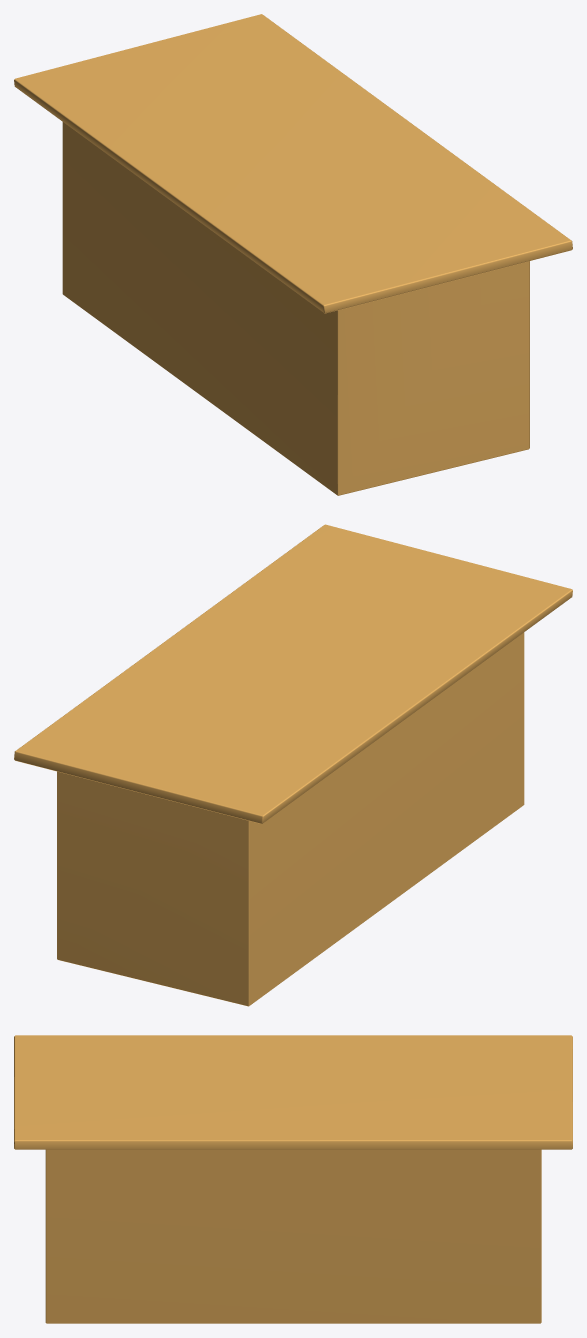
Rendered from kutusuzmasa.fbx.
3 renders of one model, top to bottom at view 1: azimuth 30°, elevation 25°; view 2: azimuth 150°, elevation 25°; view 3: azimuth 270°, elevation 25°, orthographic. The views are drawn at different scales.
Visible parts, largest first — view 1: Table_1_lp.002, Table_2_lp; view 2: Table_1_lp.002, Table_2_lp; view 3: Table_1_lp.002, Table_2_lp.
Boxes of the visible parts, x1=… form: Table_1_lp.002: x1=62, y1=122, x2=529, y2=495; Table_2_lp: x1=14, y1=14, x2=572, y2=313; Table_1_lp.002: x1=57, y1=632, x2=524, y2=1006; Table_2_lp: x1=14, y1=524, x2=572, y2=823; Table_1_lp.002: x1=45, y1=1149, x2=541, y2=1323; Table_2_lp: x1=14, y1=1035, x2=572, y2=1149.
Bounding box in the file's own units: 6.25 × 5.16 × 13.45.
